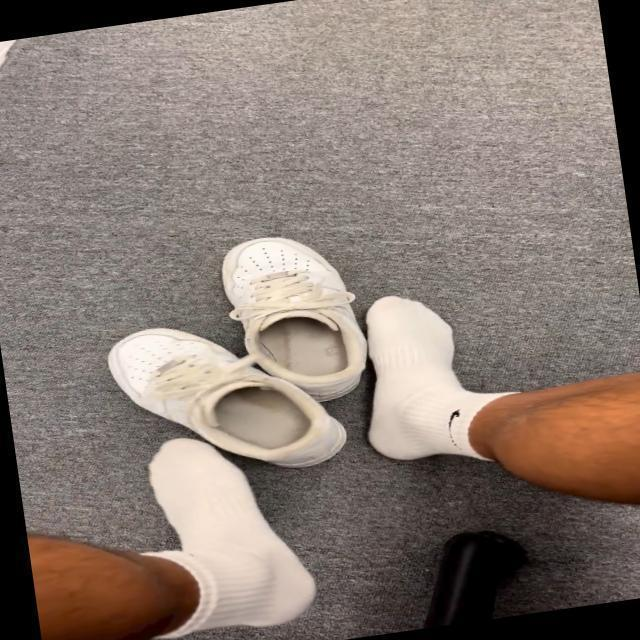nike original air force: (96, 305, 356, 503), (208, 222, 383, 414)
